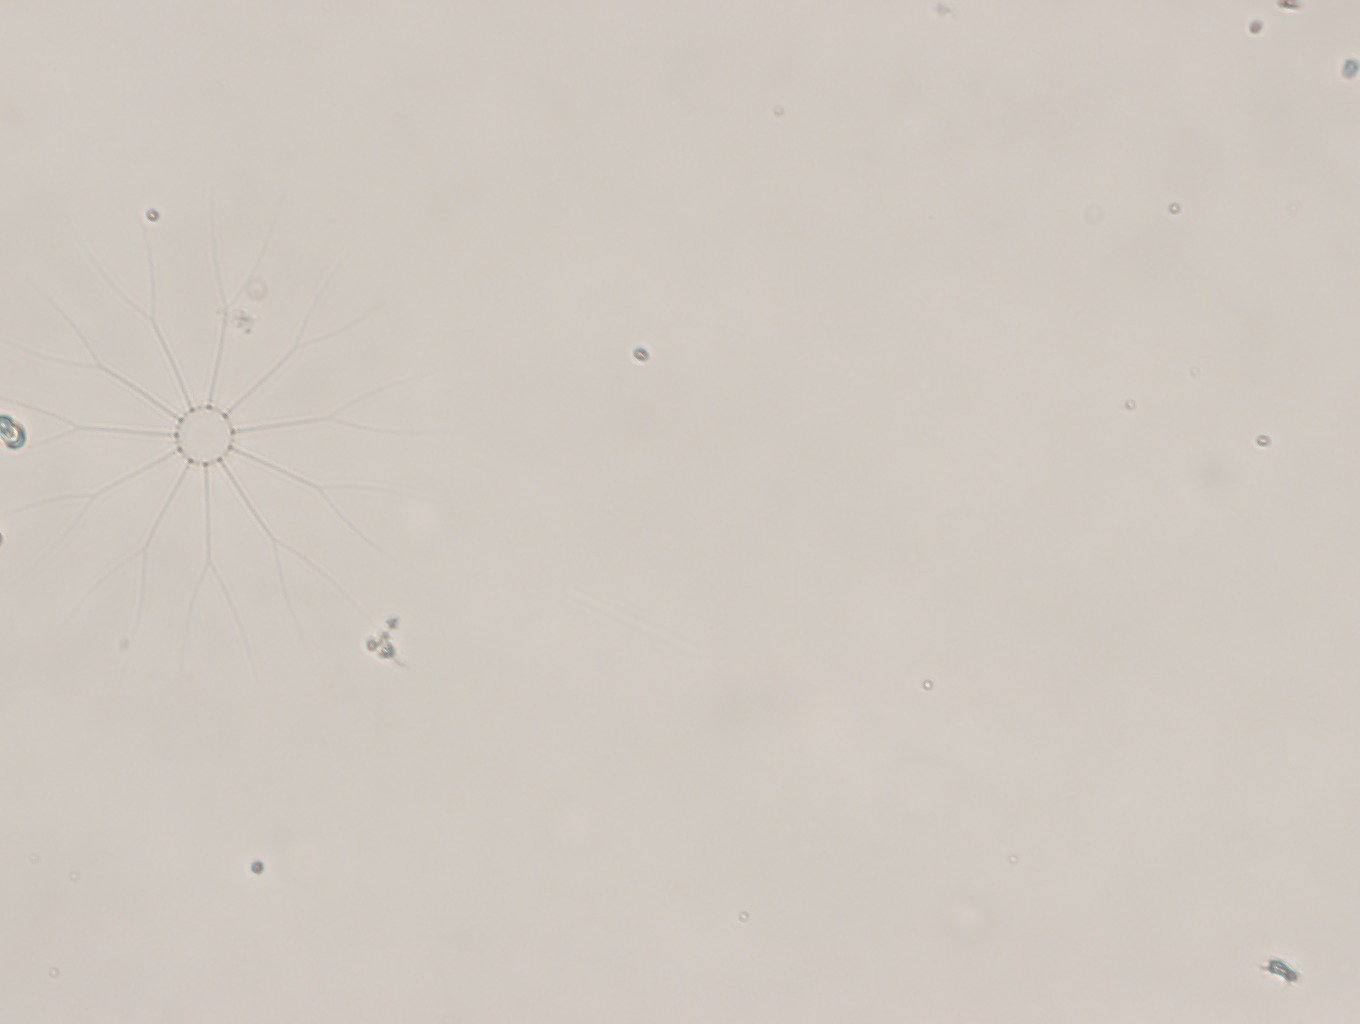bacteriastrum: (6, 195, 435, 642)
